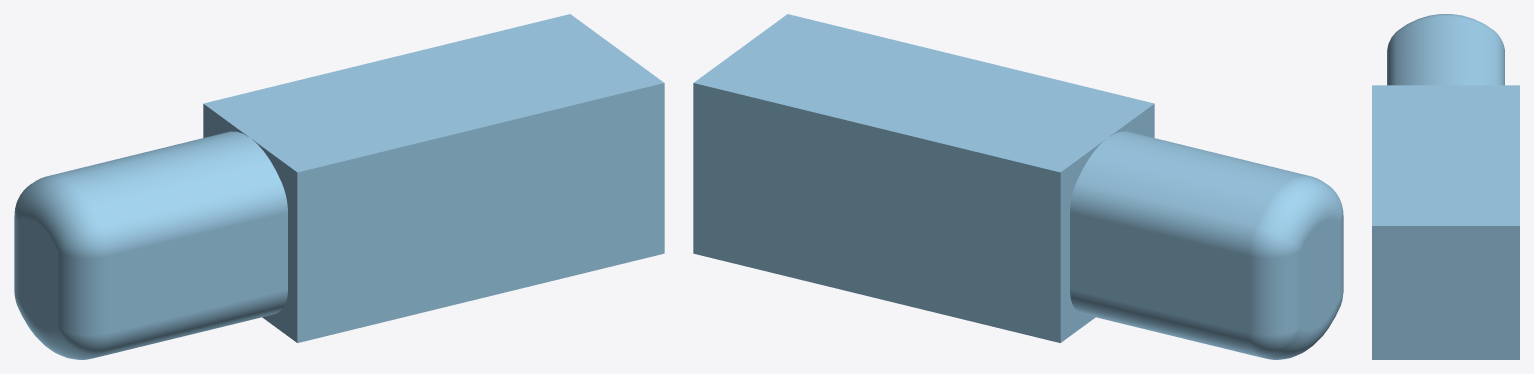
File: motor_link.dae
3 renders of one model, left to right at view 1: azimuth 30°, elevation 25°; view 2: azimuth 150°, elevation 25°; view 3: azimuth 270°, elevation 25°, orthographic. The views are drawn at different scales.
Visible parts, largest first — view 1: ID2; view 2: ID2; view 3: ID2.
Part boxes in pixels (x1,y1,x2,y2): ID2: (14, 14, 664, 359); ID2: (693, 14, 1343, 359); ID2: (1372, 14, 1519, 359).
Size of the model in its own units: 0.071 by 0.02 by 0.02.
